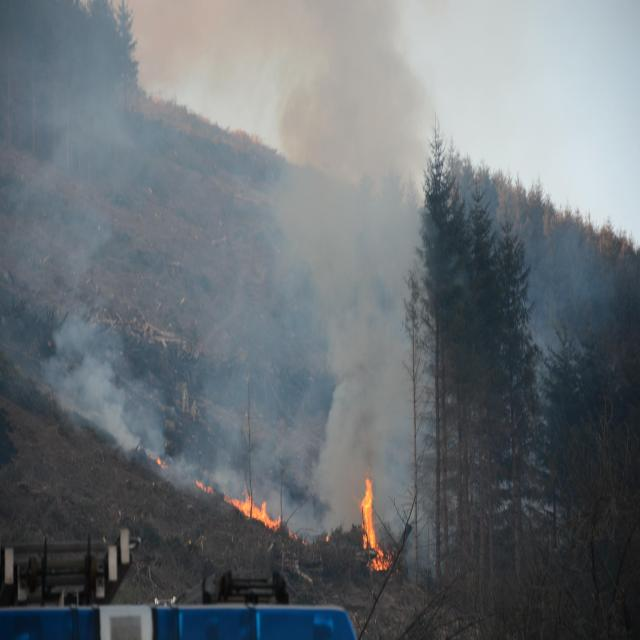Fire: (180, 477, 304, 541), (355, 474, 392, 582)
Smoke: (0, 0, 430, 567)
